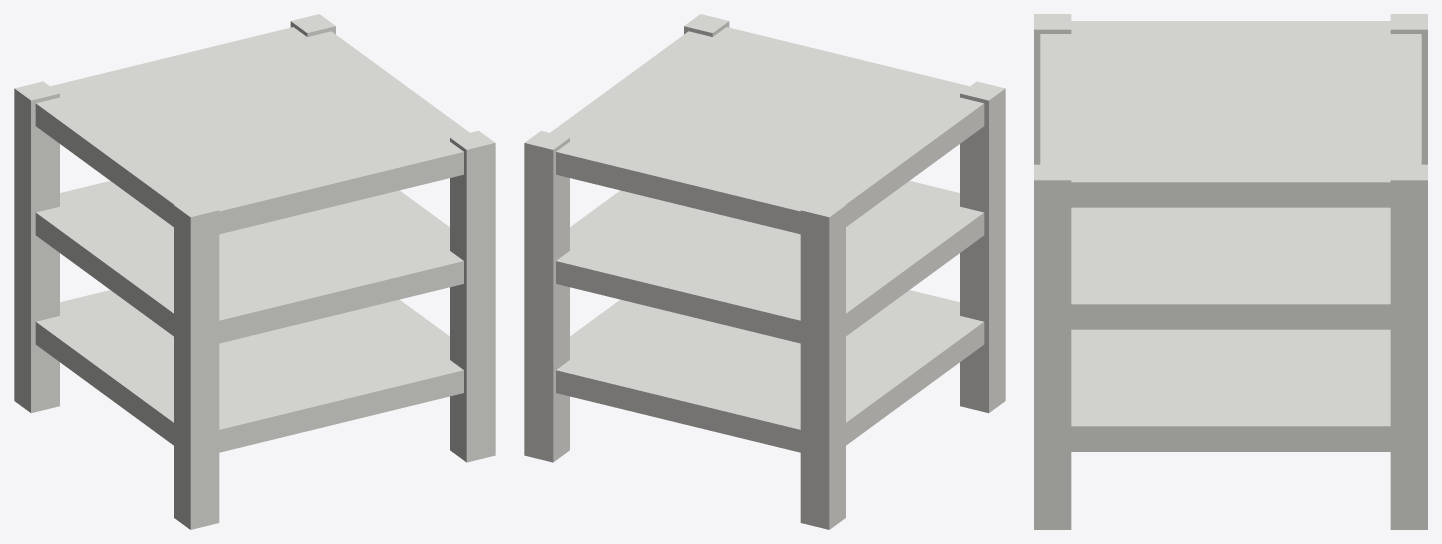
File: kitchen_table.fbx
The picture shows the model from 3 angles, left to right: view 1: azimuth 30°, elevation 25°; view 2: azimuth 150°, elevation 25°; view 3: azimuth 270°, elevation 25°; orthographic projection. The views are drawn at different scales.
Parts seen in each view (by area): view 1: kitchen_table; view 2: kitchen_table; view 3: kitchen_table.
Boxes of the visible parts, x1,y1,x2,y2 form: kitchen_table: (14,14,495,529); kitchen_table: (524,14,1005,529); kitchen_table: (1034,14,1427,529).
Bounding box in the file's own units: 98.91 × 98.91 × 96.88.
